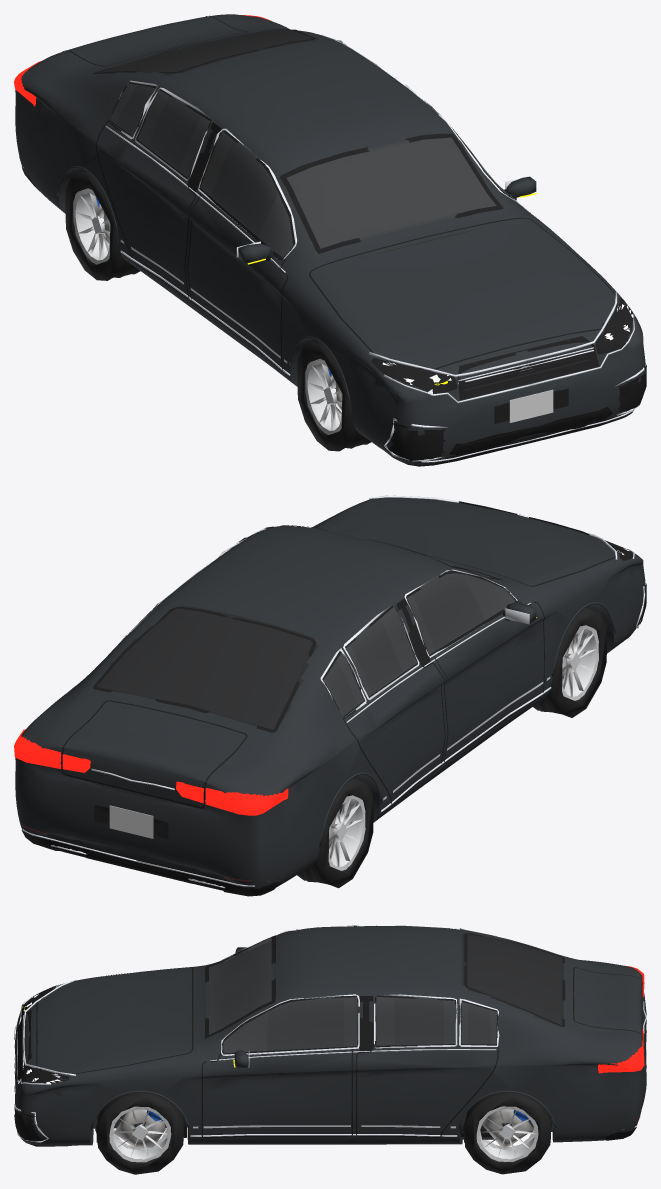
The model's file is sedanLuxe-lod1.glb.
The picture shows the model from 3 angles, top to bottom: view 1: azimuth 30°, elevation 25°; view 2: azimuth 150°, elevation 25°; view 3: azimuth 270°, elevation 25°; orthographic projection. The views are drawn at different scales.
Visible parts, largest first — view 1: Body, HoodSkin, Body_Lining, Body_Trim, Panel_RR, Panel_FR, Window_FR, TrunkSkin, Window_RR, Window_FR_Lining, Wheel_FR_Tyre, Wheel_RR_Tyre (+8 smaller); view 2: Body, HoodSkin, TrunkSkin, Panel_FR, Panel_RR, Body_Trim, Body_Lining, Window_FR, Window_RR, Window_FR_Lining, Wheel_FR_Tyre, Wheel_RR_Tyre (+8 smaller); view 3: Body, HoodSkin, Panel_FL, Panel_RL, Body_Lining, Window_FL, Body_Trim, Window_RL, TrunkSkin, Window_FL_Lining, Wheel_FL_Tyre, Wheel_RL_Tyre (+9 smaller).
Part boxes in pixels (left/top/right/bottom): Body: left=15, top=14, right=645, bottom=465; HoodSkin: left=311, top=221, right=615, bottom=369; Body_Lining: left=102, top=30, right=601, bottom=354; Body_Trim: left=14, top=15, right=646, bottom=466; Panel_RR: left=97, top=84, right=193, bottom=294; Panel_FR: left=189, top=195, right=285, bottom=366; Window_FR: left=202, top=133, right=293, bottom=260; TrunkSkin: left=68, top=16, right=244, bottom=65; Window_RR: left=137, top=91, right=209, bottom=180; Window_FR_Lining: left=212, top=141, right=277, bottom=235; Wheel_FR_Tyre: left=297, top=342, right=371, bottom=451; Wheel_RR_Tyre: left=65, top=172, right=140, bottom=280; Body: left=15, top=498, right=645, bottom=890; HoodSkin: left=318, top=497, right=615, bottom=585; TrunkSkin: left=64, top=703, right=244, bottom=805; Panel_FR: left=435, top=604, right=541, bottom=759; Panel_RR: left=323, top=654, right=444, bottom=800; Body_Trim: left=14, top=501, right=646, bottom=896; Body_Lining: left=102, top=571, right=541, bottom=735; Window_FR: left=408, top=571, right=514, bottom=652; Window_RR: left=346, top=608, right=416, bottom=700; Window_FR_Lining: left=413, top=576, right=484, bottom=649; Wheel_FR_Tyre: left=533, top=608, right=606, bottom=717; Wheel_RR_Tyre: left=297, top=778, right=373, bottom=888; Body: left=15, top=926, right=646, bottom=1146; HoodSkin: left=37, top=967, right=188, bottom=1073; Panel_FL: left=206, top=1049, right=350, bottom=1135; Panel_RL: left=357, top=1003, right=496, bottom=1136; Body_Lining: left=37, top=936, right=561, bottom=1055; Window_FL: left=224, top=997, right=356, bottom=1056; Body_Trim: left=14, top=933, right=646, bottom=1146; Window_RL: left=375, top=998, right=455, bottom=1046; TrunkSkin: left=577, top=968, right=643, bottom=1037; Window_FL_Lining: left=267, top=998, right=343, bottom=1050; Wheel_FL_Tyre: left=95, top=1092, right=185, bottom=1174; Wheel_RL_Tyre: left=462, top=1092, right=552, bottom=1174.
Bounding box in the file's own units: 2.05 × 1.47 × 4.86.
